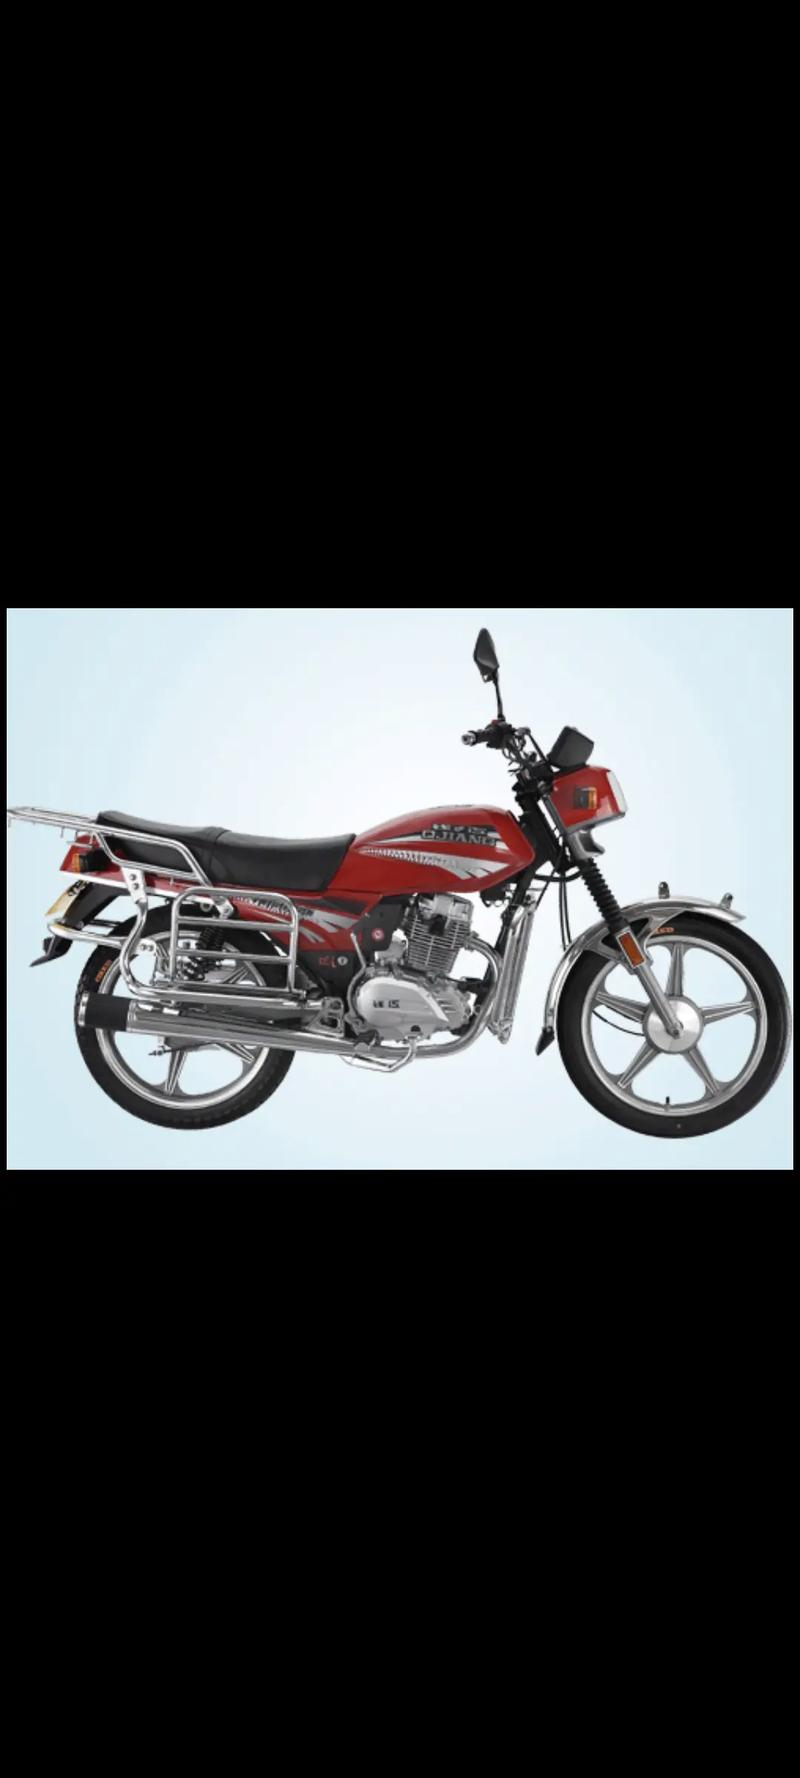摩托车: (15, 632, 790, 1148)
